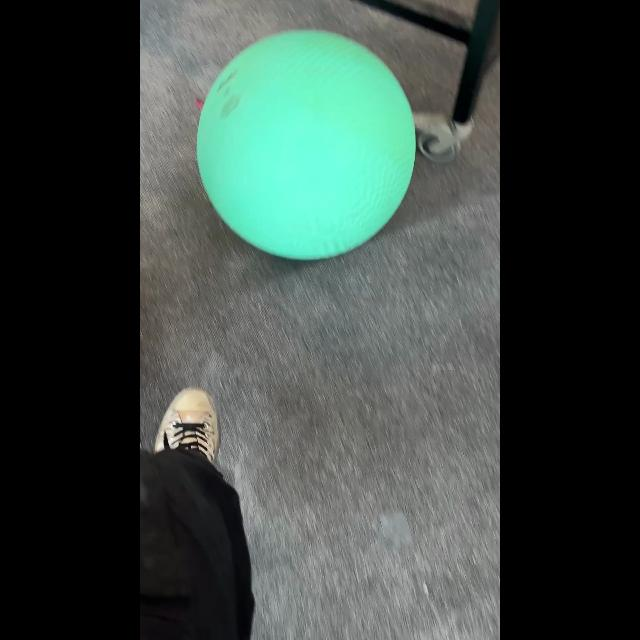ALGAE: (195, 28, 417, 262)
